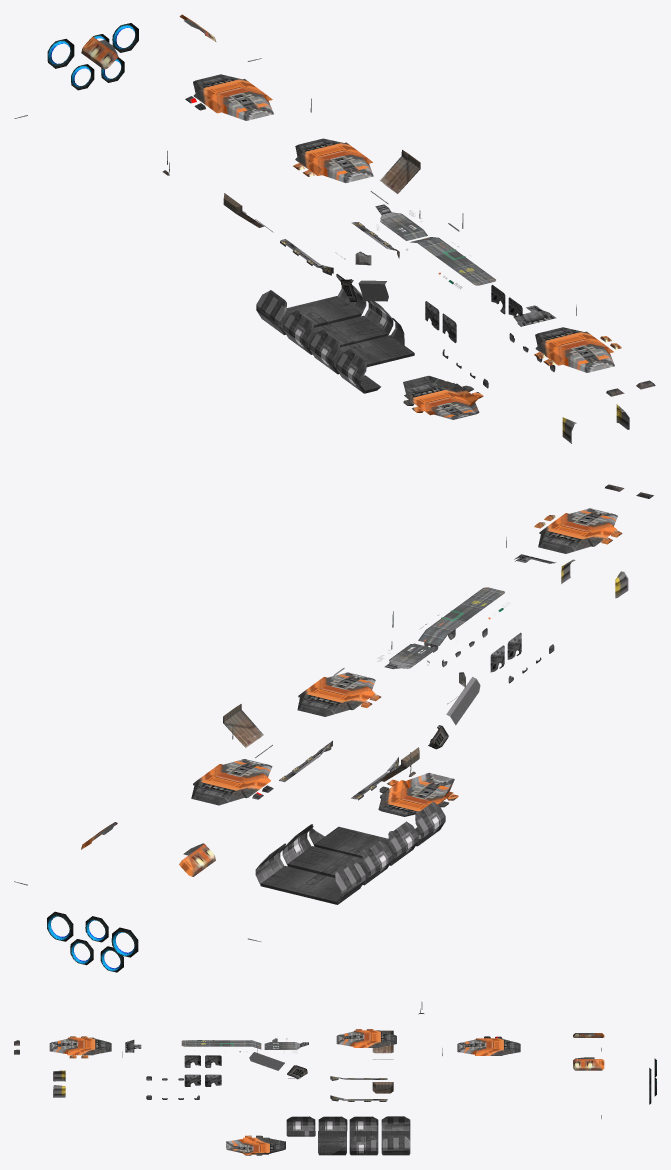
File: Goblins-UVFlip.obj
3 renders of one model, top to bottom at view 1: azimuth 30°, elevation 25°; view 2: azimuth 150°, elevation 25°; view 3: azimuth 270°, elevation 25°, orthographic. The views are drawn at different scales.
Visible parts, largest first — view 1: Hgn_Front, Hgn_Burner, Hgn_Leftover; view 2: Hgn_Front, Hgn_Burner, Hgn_Leftover; view 3: Hgn_Front, Hgn_Leftover.
Part boxes in pixels (x1,y1,x2,y2): Hgn_Front: (14, 14, 655, 443); Hgn_Burner: (47, 23, 138, 90); Hgn_Leftover: (341, 251, 388, 301); Hgn_Front: (14, 484, 653, 941); Hgn_Burner: (47, 911, 138, 972); Hgn_Leftover: (428, 672, 480, 749); Hgn_Front: (14, 1001, 604, 1155); Hgn_Leftover: (249, 1038, 307, 1079).
Size of the model in its own units: 103 by 72.82 by 389.
